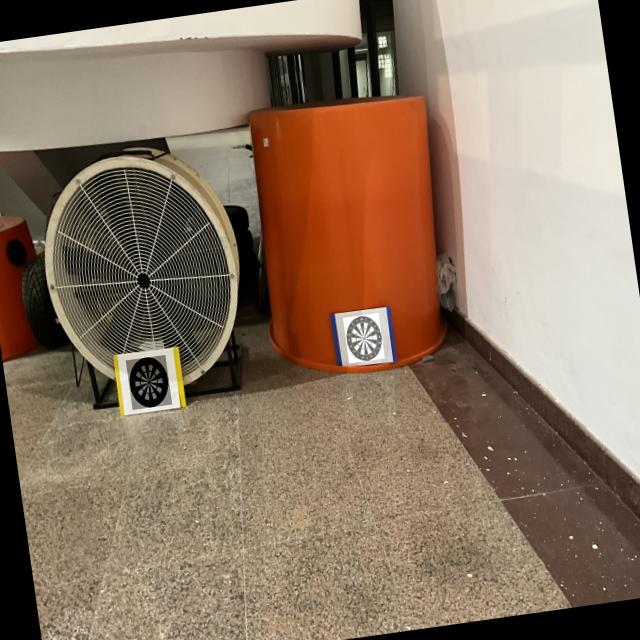archery-targets: (126, 355, 172, 410), (343, 312, 385, 363)
